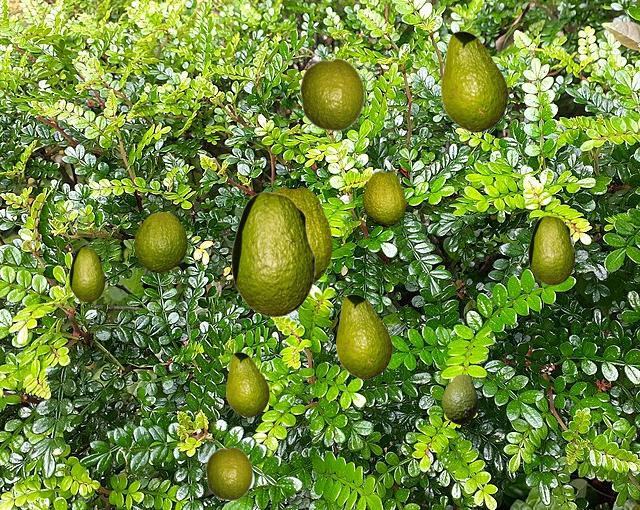avocado: (231, 191, 314, 316), (441, 31, 507, 131), (273, 186, 331, 283), (299, 57, 364, 131), (336, 294, 391, 378), (528, 215, 574, 284), (134, 212, 186, 271), (226, 352, 268, 416), (205, 446, 252, 500), (363, 171, 404, 225), (69, 247, 104, 301), (442, 374, 477, 423)
